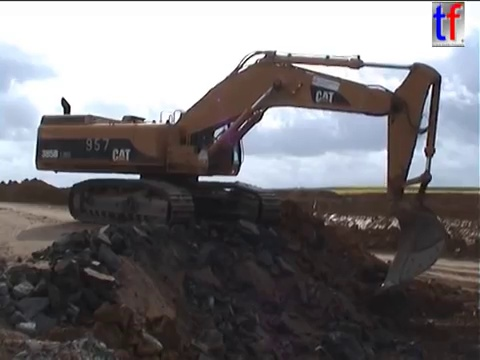excavator: (31, 46, 454, 293)
